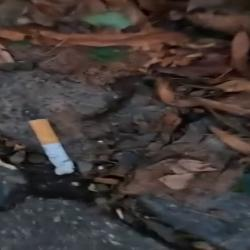Litter: (30, 118, 74, 175)
